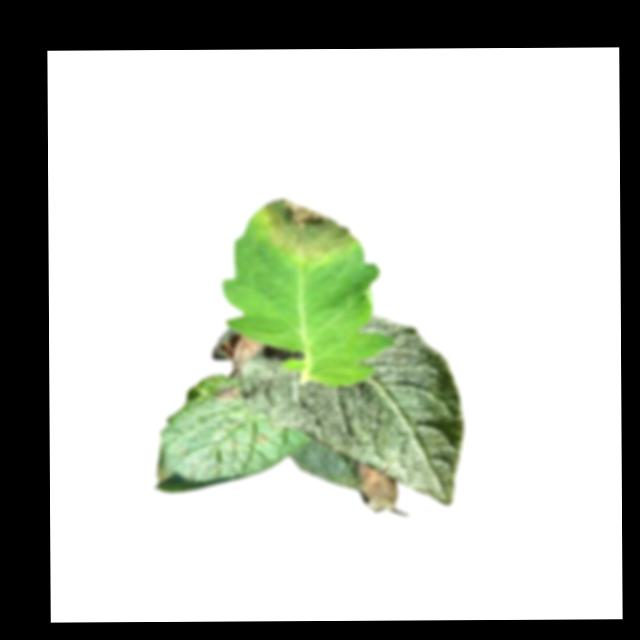Late_blight: (265, 197, 356, 265), (353, 461, 397, 516), (215, 332, 267, 376), (210, 383, 240, 401)
healthy: (241, 314, 464, 506)
